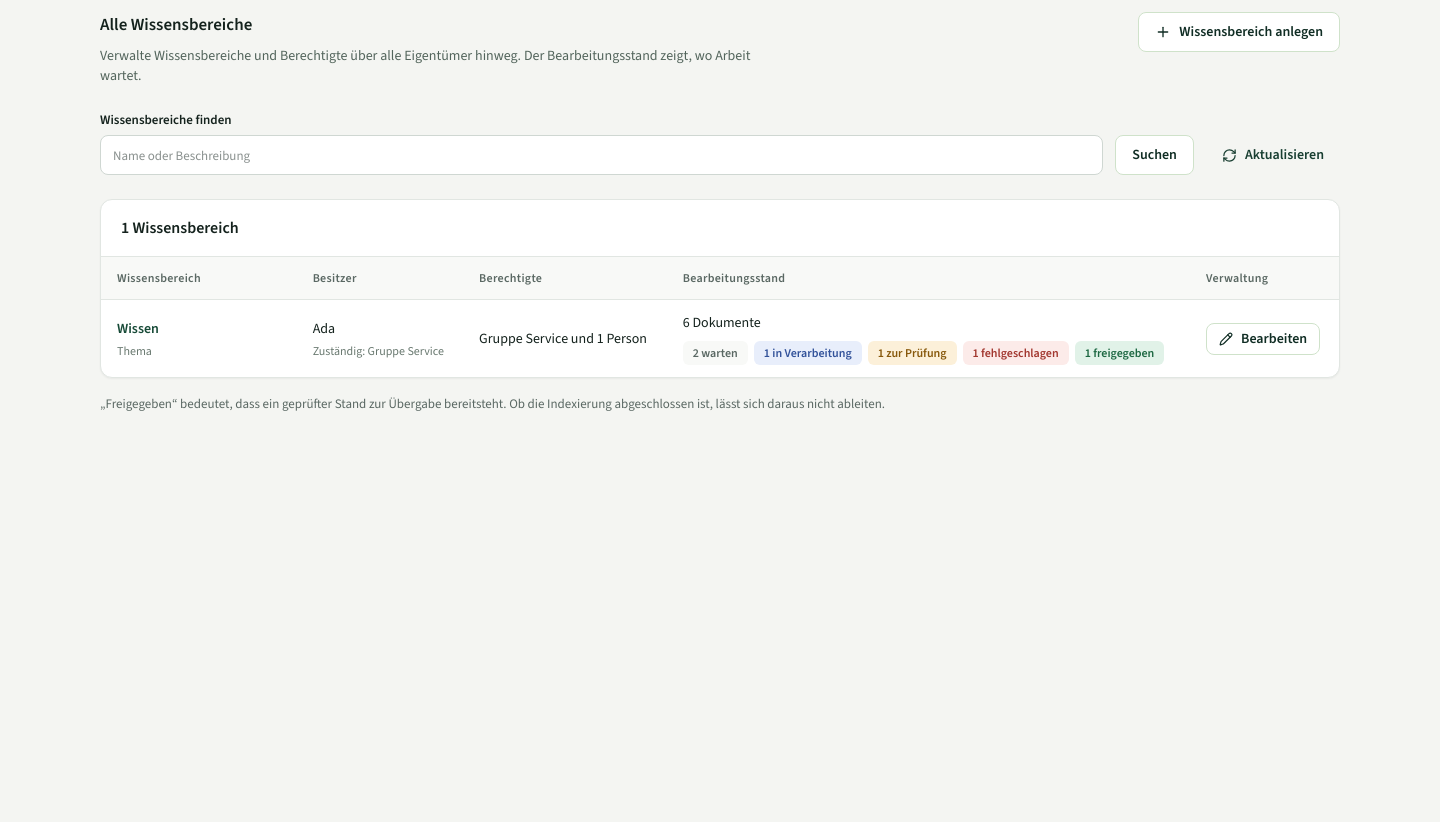
Test: renames a collection without touching its access
Click the button with aria-label "Wissen bearbeiten": coordinates (1263, 338) [1206,322,1320,354]
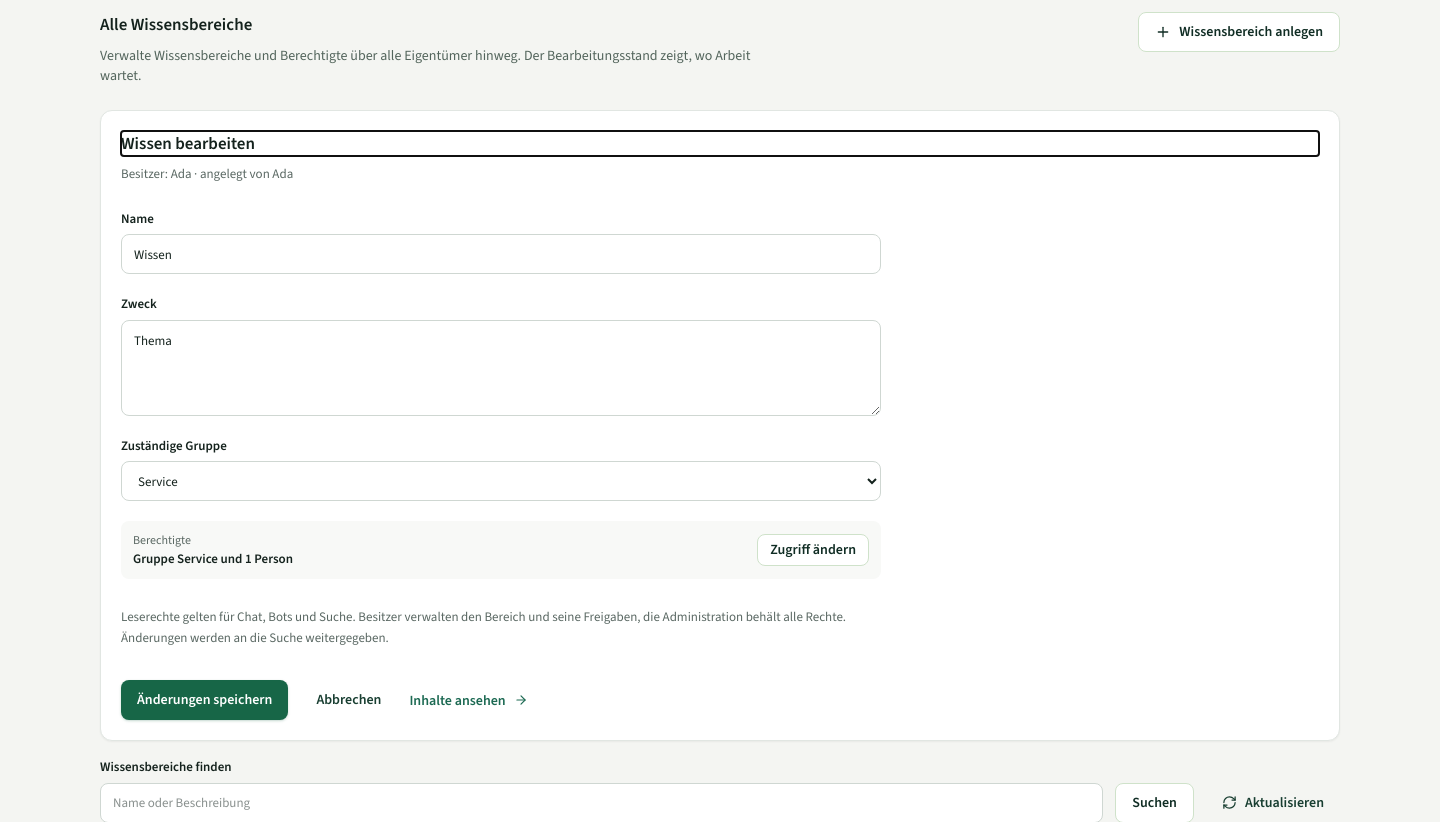
Now the field labelled "Name" is shown
Replace the text in the field labelled "Name" with "Neues Thema": coordinates (501, 254) [121,234,881,274]
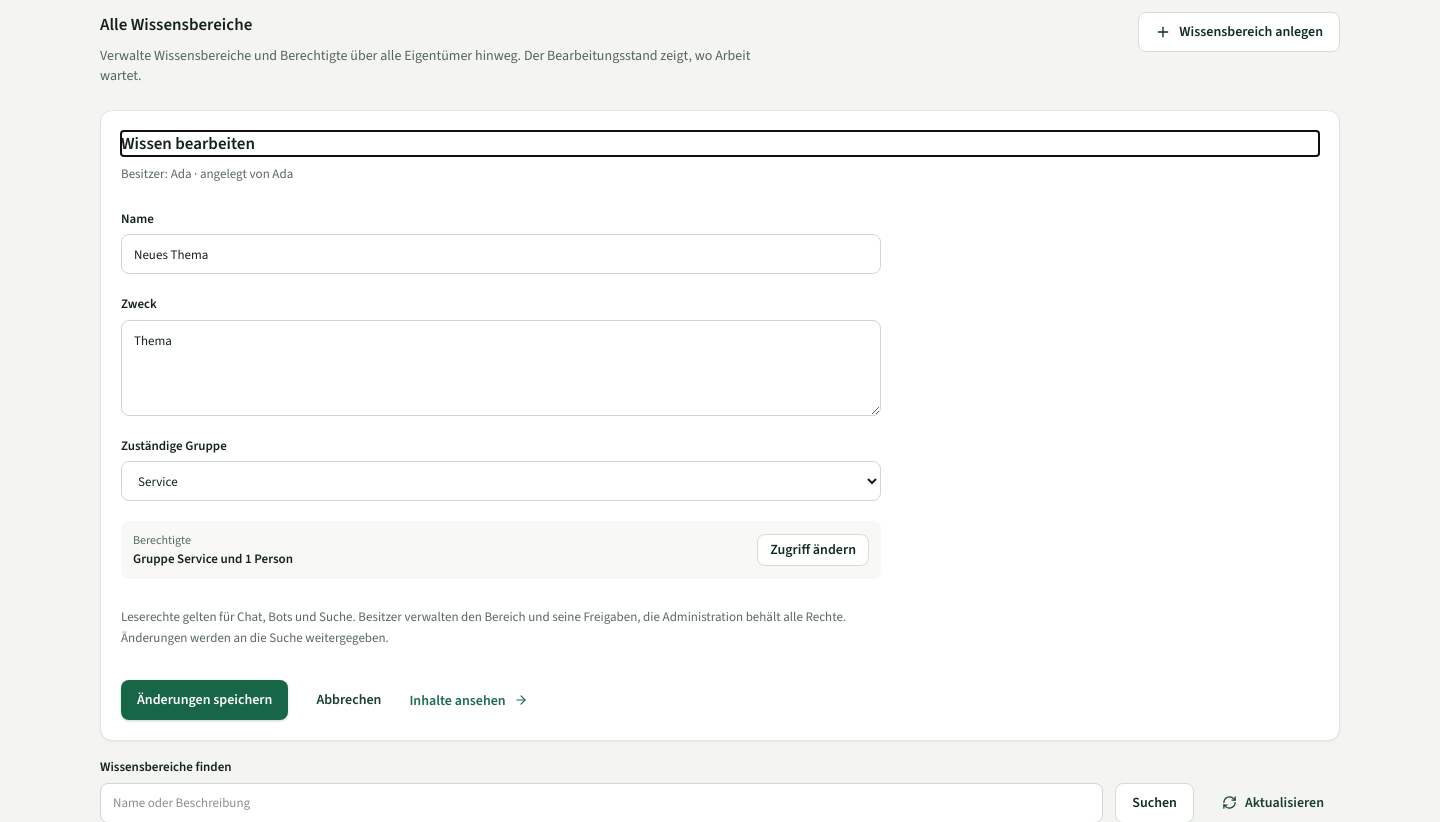
Click the button "Änderungen speichern": coordinates (205, 700) [121,680,288,720]
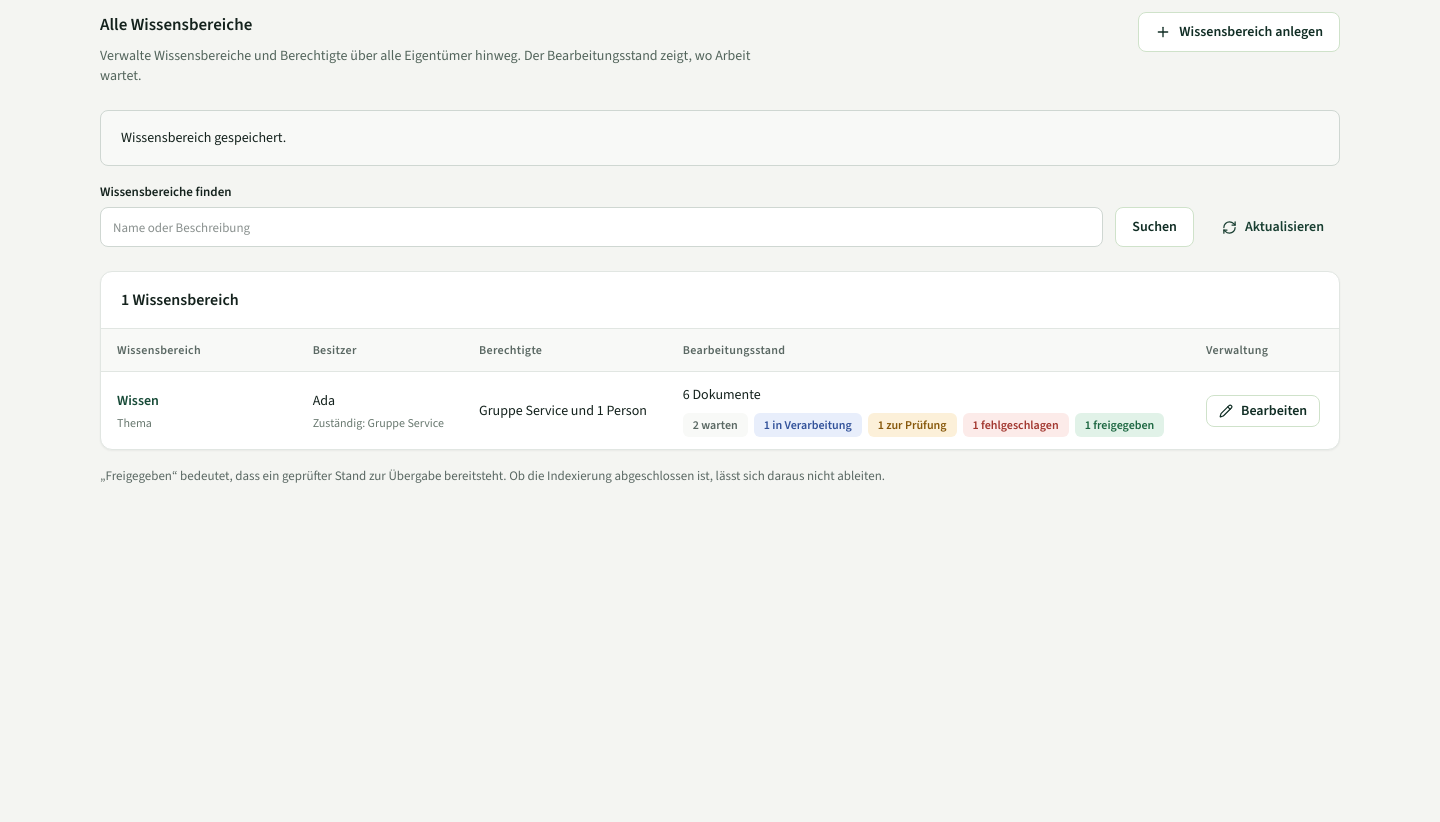
Now the text "Wissensbereich gespeichert." is shown, box [121,126,286,149]
